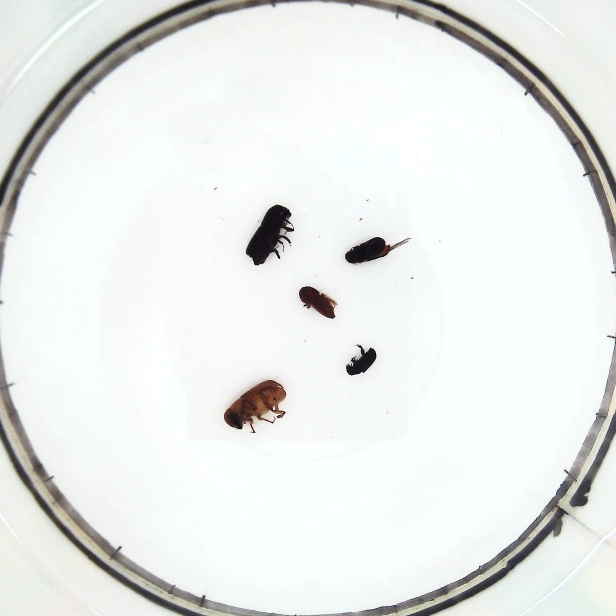armandi: (341, 231, 418, 266)
boerner: (244, 203, 296, 269)
coleoptera: (346, 342, 378, 377)
leconte: (224, 380, 295, 434)
linnaeus: (296, 284, 342, 323)
